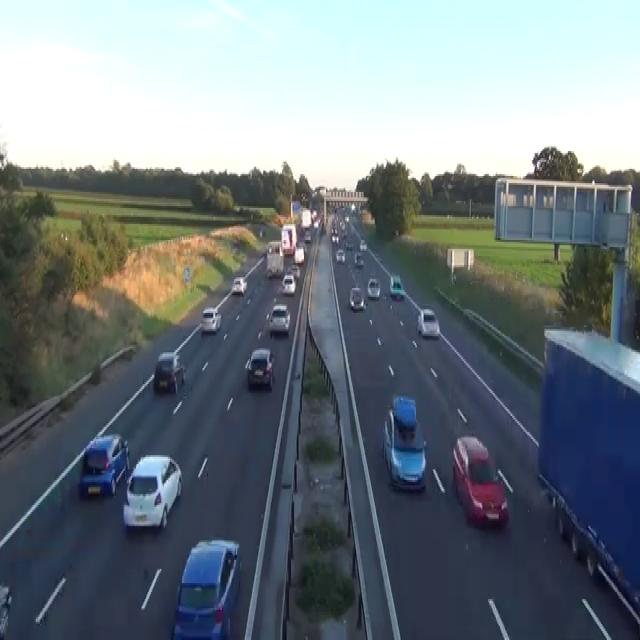Car: (171, 537, 241, 638), (451, 434, 509, 528), (122, 453, 182, 530), (382, 394, 427, 490), (78, 432, 130, 498), (153, 350, 185, 393), (244, 347, 275, 391), (416, 308, 440, 338), (268, 304, 290, 334), (0, 583, 12, 638), (200, 308, 221, 332), (349, 286, 366, 311), (389, 274, 404, 298), (281, 272, 295, 295), (231, 276, 247, 295), (0, 583, 12, 608), (367, 277, 380, 299), (294, 245, 304, 265), (287, 265, 300, 279), (267, 240, 280, 254), (354, 250, 364, 266), (335, 247, 345, 263), (59, 229, 68, 242), (359, 238, 366, 251), (331, 233, 339, 243), (304, 231, 311, 242), (331, 224, 338, 235), (345, 240, 353, 249), (266, 267, 273, 277), (314, 218, 320, 228), (350, 203, 355, 213), (452, 272, 456, 284), (344, 214, 349, 222), (259, 230, 262, 237)
Truck: (536, 326, 639, 630), (266, 240, 283, 277), (280, 222, 297, 256), (301, 208, 311, 229)
